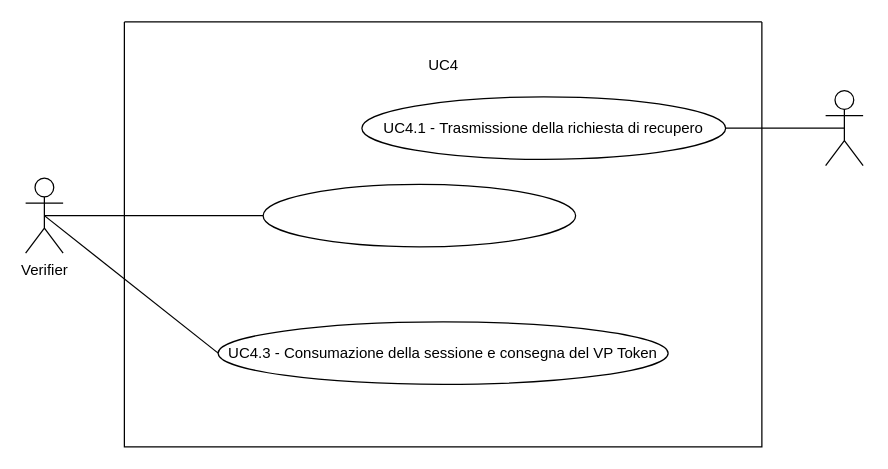
Some shapes in this 888 by 469 pixel diagram are drawn without their labels. The centre of each missing label's shape, as x and y in pixels:
"UC4.2 - Validazione del Response Code" belongs at pixel 419 215.
"Utente" belongs at pixel 843 127.
